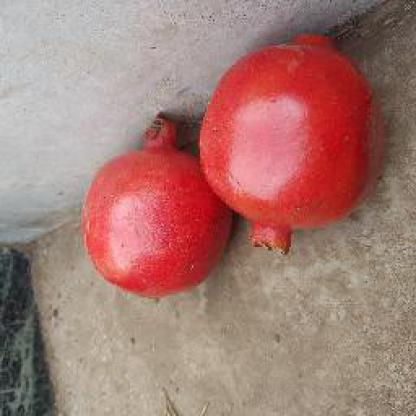pomegranate: (200, 38, 383, 252), (83, 114, 234, 298)
